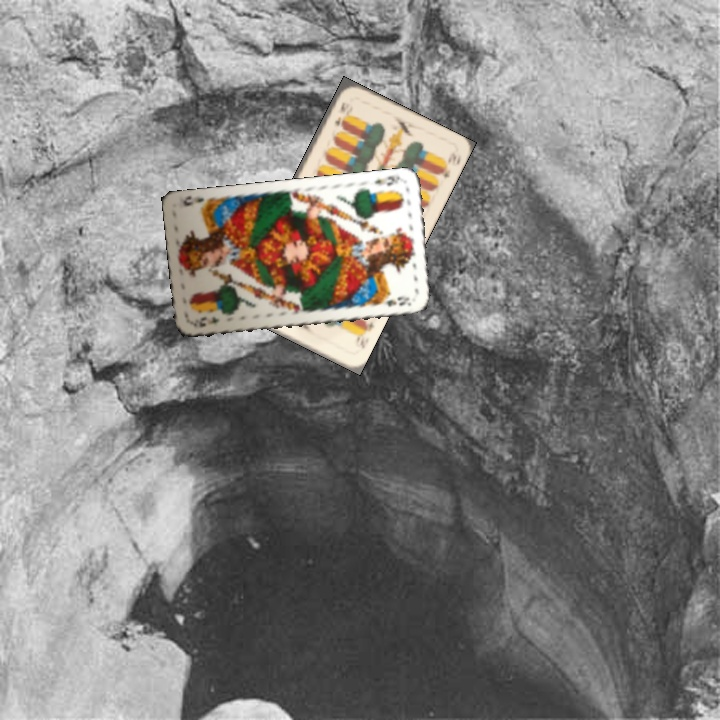E10: (351, 317, 377, 351), (331, 97, 354, 129)
EK: (370, 171, 405, 188), (193, 312, 222, 330)
